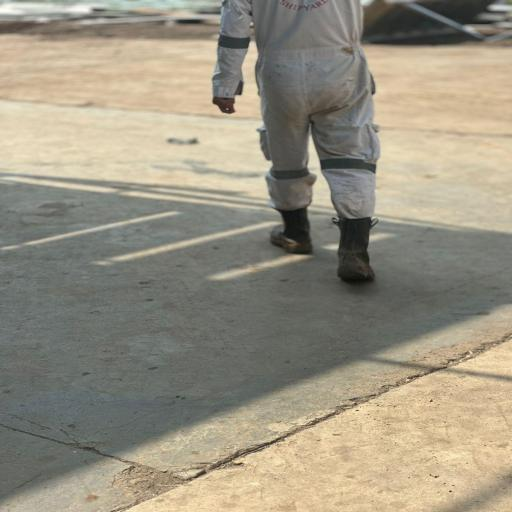safety_shoe: (334, 214, 386, 286), (260, 204, 322, 255)
